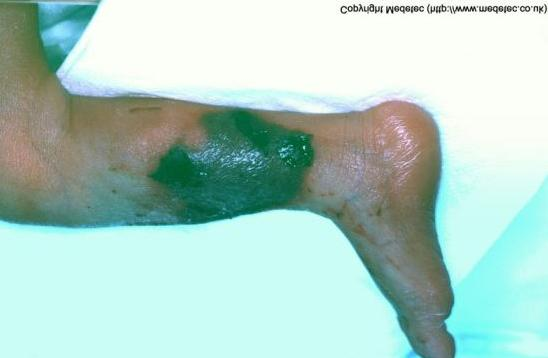Stage4: (86, 106, 330, 228)
